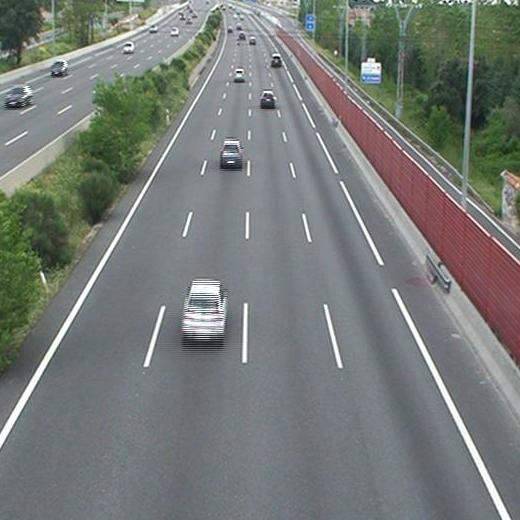car: (182, 280, 225, 342), (220, 141, 243, 166), (261, 90, 275, 106), (233, 68, 245, 80), (271, 54, 282, 67), (248, 37, 256, 45)
